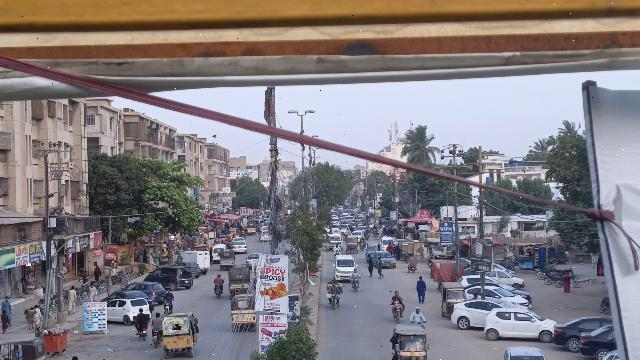Bike: (391, 302, 406, 325), (328, 290, 341, 311), (134, 324, 150, 341), (349, 275, 362, 292), (150, 330, 161, 350), (162, 299, 174, 316), (213, 285, 223, 300)
Car: (483, 306, 557, 343), (550, 314, 611, 352), (450, 300, 517, 331), (143, 265, 195, 290), (578, 323, 614, 358)
Person: (65, 283, 77, 317), (415, 275, 427, 304), (409, 307, 427, 323), (86, 282, 99, 303), (134, 306, 149, 324), (150, 312, 164, 330), (375, 256, 385, 279), (366, 253, 375, 278), (391, 289, 404, 303), (162, 288, 175, 302), (328, 281, 341, 294), (214, 272, 224, 284), (351, 268, 360, 277)
Rickshaw: (161, 312, 200, 360), (387, 323, 431, 360), (228, 293, 256, 332), (439, 280, 466, 318)
Truck: (225, 263, 253, 295), (177, 249, 211, 270)
Van: (331, 254, 356, 282)
